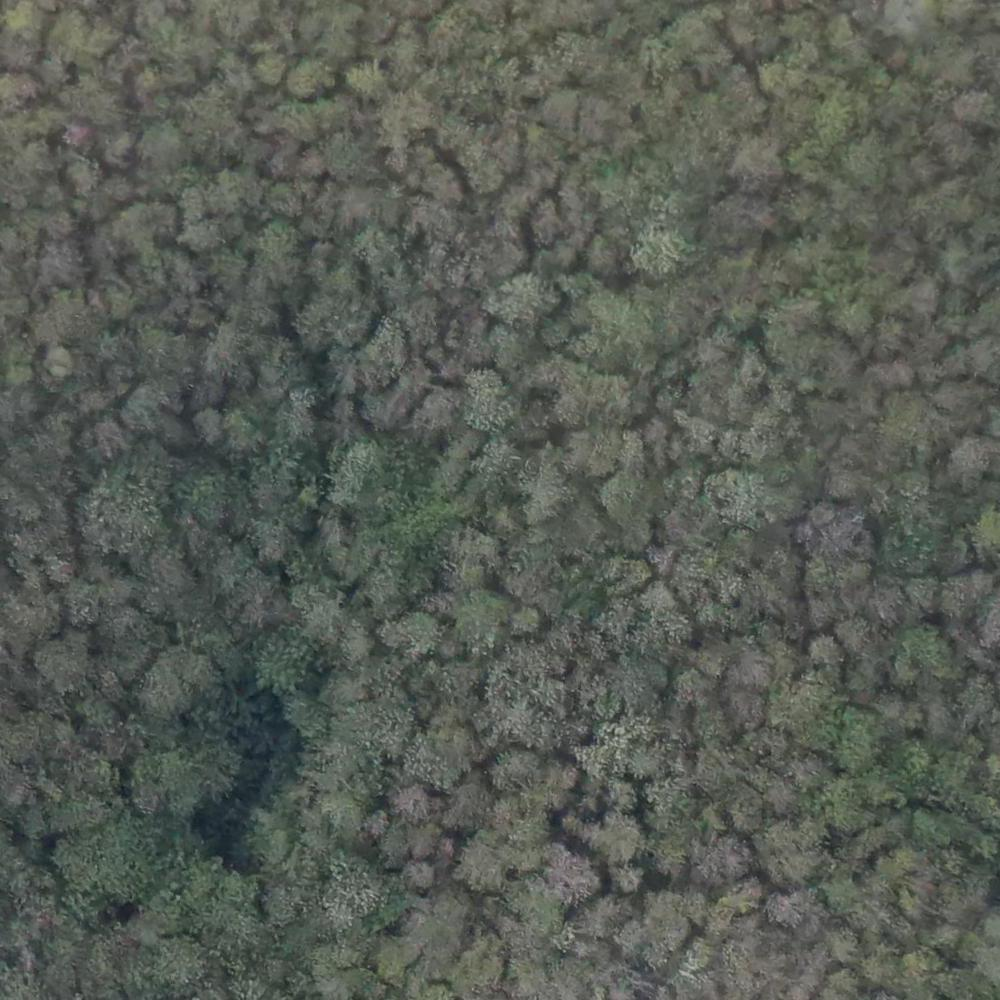tree: (90, 478, 159, 551), (897, 622, 959, 695), (206, 310, 267, 384), (588, 300, 654, 363), (633, 224, 699, 286), (771, 682, 832, 744), (348, 61, 403, 126), (466, 367, 522, 428), (396, 292, 457, 348), (257, 635, 313, 695), (497, 266, 552, 327), (146, 655, 207, 708), (731, 137, 783, 199), (453, 838, 508, 895), (328, 862, 387, 915), (715, 464, 767, 524), (51, 8, 110, 60), (570, 426, 626, 479), (944, 432, 994, 491), (382, 502, 438, 554), (489, 737, 541, 789), (127, 388, 181, 438), (544, 840, 592, 895), (394, 613, 444, 665), (228, 404, 276, 456), (889, 523, 943, 569), (278, 58, 337, 99), (249, 518, 305, 559), (825, 93, 864, 151), (454, 584, 501, 628), (701, 836, 744, 884), (255, 207, 300, 252), (121, 207, 162, 255), (441, 786, 487, 827), (474, 440, 520, 475), (928, 119, 964, 159), (773, 890, 815, 922), (143, 121, 179, 157), (808, 635, 843, 672), (390, 784, 428, 818), (795, 761, 834, 794), (607, 870, 648, 896), (192, 403, 225, 435), (251, 48, 283, 79), (840, 611, 864, 646), (407, 864, 436, 888)
